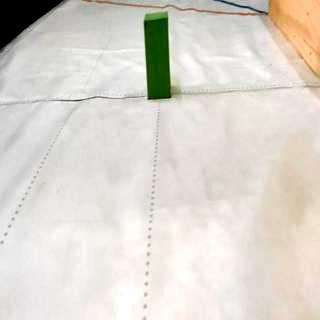greenbox: (144, 12, 173, 100)
